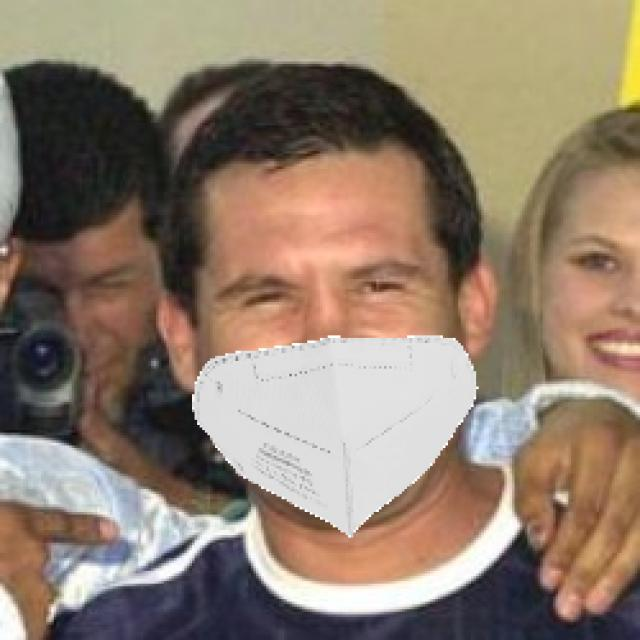mask: (196, 343, 495, 536)
